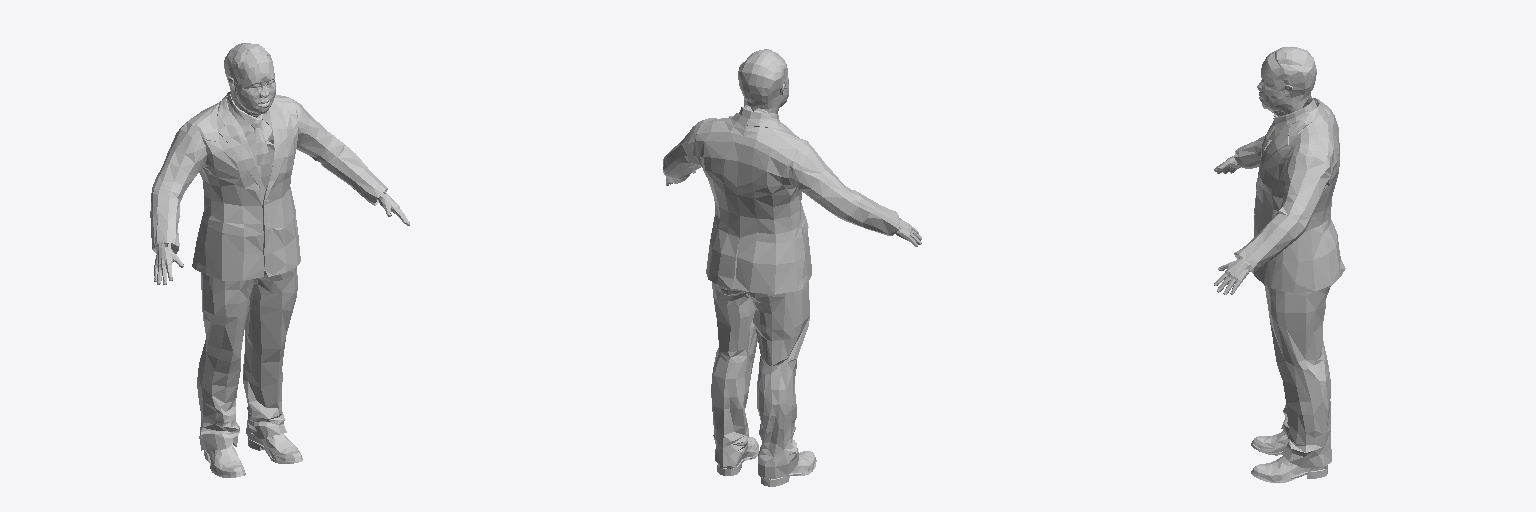
Rendered from man_普通0.3.obj.
3 renders of one model, left to right at view 1: azimuth 30°, elevation 25°; view 2: azimuth 150°, elevation 25°; view 3: azimuth 270°, elevation 25°, orthographic.
Bounding box in the file's own units: 10.39 × 16.34 × 4.69.